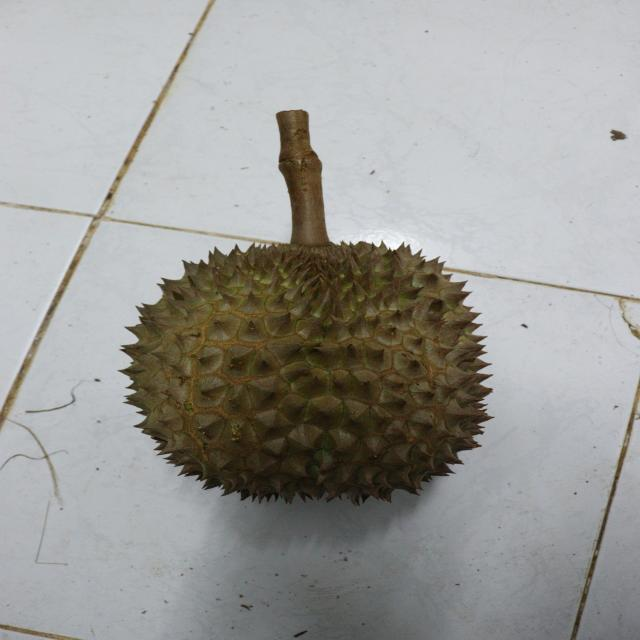mature: (120, 238, 494, 508)
